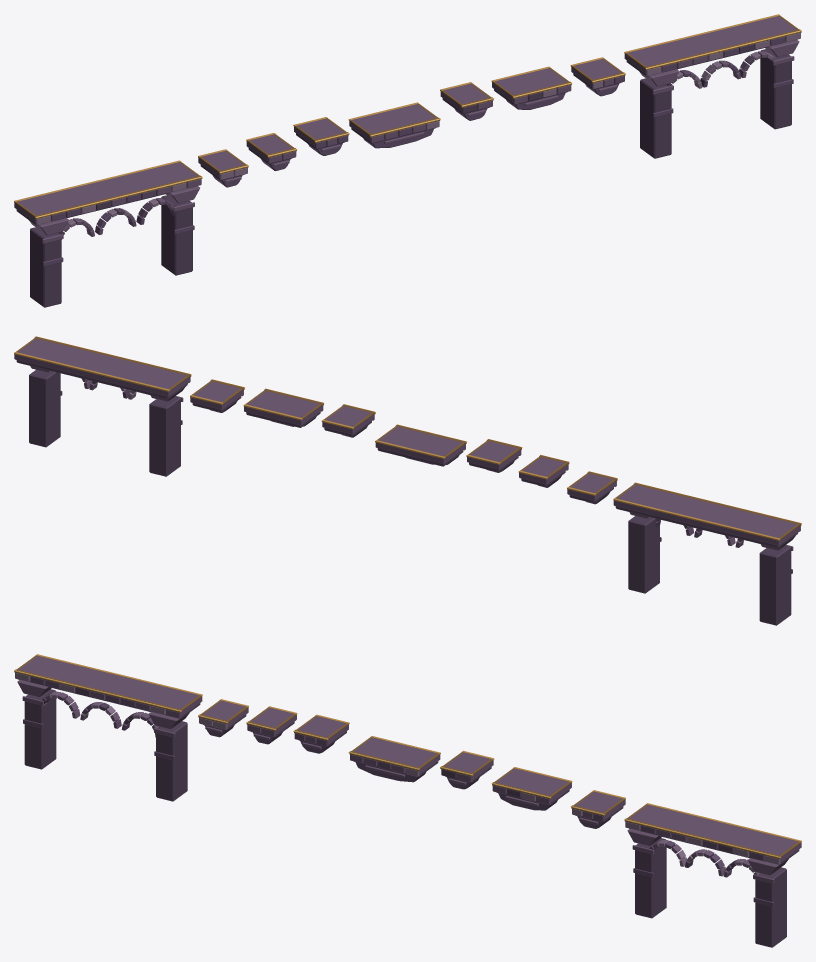
The model's file is SM_Vault_PlatformFaces.fbx.
The picture shows the model from 3 angles, top to bottom: view 1: azimuth 30°, elevation 25°; view 2: azimuth 150°, elevation 25°; view 3: azimuth 330°, elevation 25°; orthographic projection.
Parts seen in each view (by area): view 1: SM_Vault_PlatformFaces; view 2: SM_Vault_PlatformFaces; view 3: SM_Vault_PlatformFaces.
Part boxes in pixels (x1=…): SM_Vault_PlatformFaces: x1=14, y1=14, x2=801, y2=307; SM_Vault_PlatformFaces: x1=14, y1=336, x2=801, y2=625; SM_Vault_PlatformFaces: x1=14, y1=654, x2=801, y2=947.
Bounding box in the file's own units: 3811 × 203 × 484.
